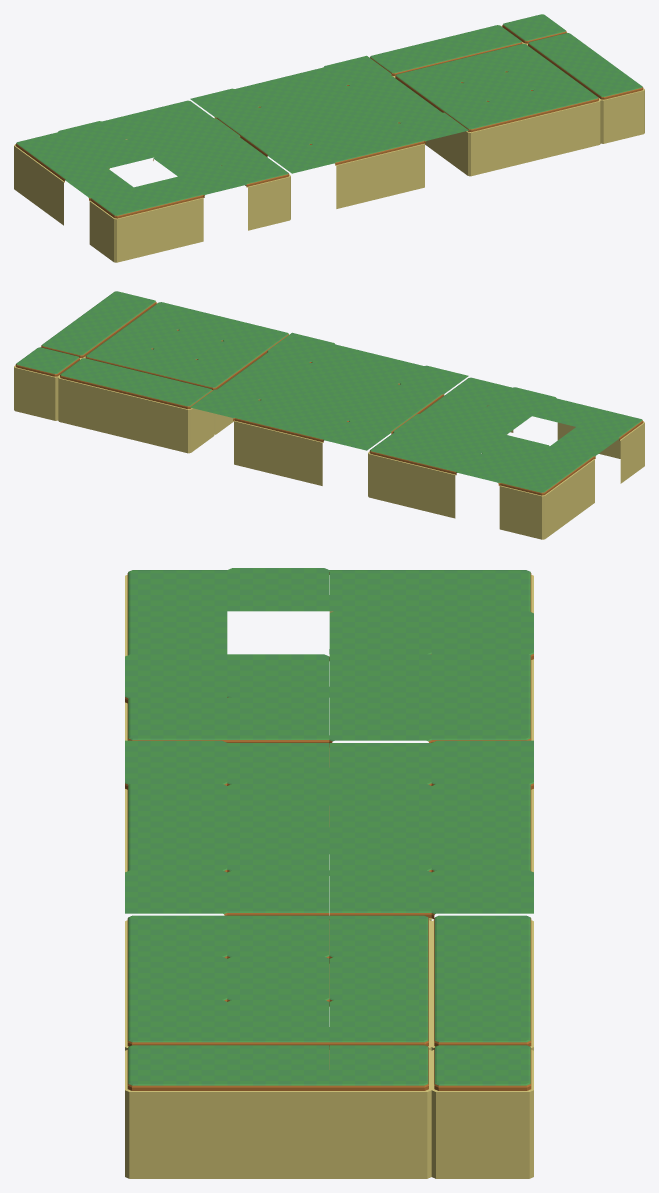
File: Island.fbx
3 renders of one model, top to bottom at view 1: azimuth 30°, elevation 25°; view 2: azimuth 150°, elevation 25°; view 3: azimuth 270°, elevation 25°, orthographic. The views are drawn at different scales.
Parts seen in each view (by area): view 1: 26, 15, 42, 29, 37, 21, 13, 18, 34, 28, 04, 35 (+35 smaller); view 2: 04, 02, 12, 11, 10, 08, 47, 07, 05, 26, 28, 20 (+35 smaller); view 3: 14, 13, 01, 47, 20, 05, 36, 18, 06, 35, 19, 38 (+35 smaller).
Boxes of the visible parts, x1,y1,x2,y2 form: 26: (89, 187, 159, 262); 15: (443, 101, 513, 176); 42: (134, 176, 203, 252); 29: (312, 133, 380, 208); 37: (355, 123, 424, 198); 21: (489, 91, 557, 165); 13: (577, 69, 644, 143); 18: (533, 80, 600, 154); 34: (222, 155, 290, 230); 28: (38, 150, 107, 225); 04: (14, 132, 81, 206); 35: (374, 93, 443, 157); 04: (499, 464, 569, 539); 02: (145, 379, 214, 453); 12: (411, 443, 480, 518); 11: (234, 400, 303, 475); 10: (278, 410, 346, 485); 08: (101, 368, 169, 442); 47: (14, 347, 80, 420); 07: (368, 432, 436, 507); 05: (58, 358, 125, 431); 26: (577, 409, 644, 483); 28: (525, 446, 594, 521); 20: (215, 370, 284, 434); 14: (227, 1045, 329, 1178); 13: (125, 1045, 227, 1178); 01: (329, 1045, 431, 1178); 47: (431, 1045, 533, 1178); 20: (329, 870, 431, 920); 05: (431, 1000, 533, 1050); 36: (227, 697, 329, 742); 18: (125, 1000, 227, 1050); 06: (329, 1000, 431, 1050); 35: (227, 870, 329, 915); 19: (227, 1000, 329, 1045); 38: (431, 740, 533, 789).
Size of the model in its own units: 96 by 8 by 32.
